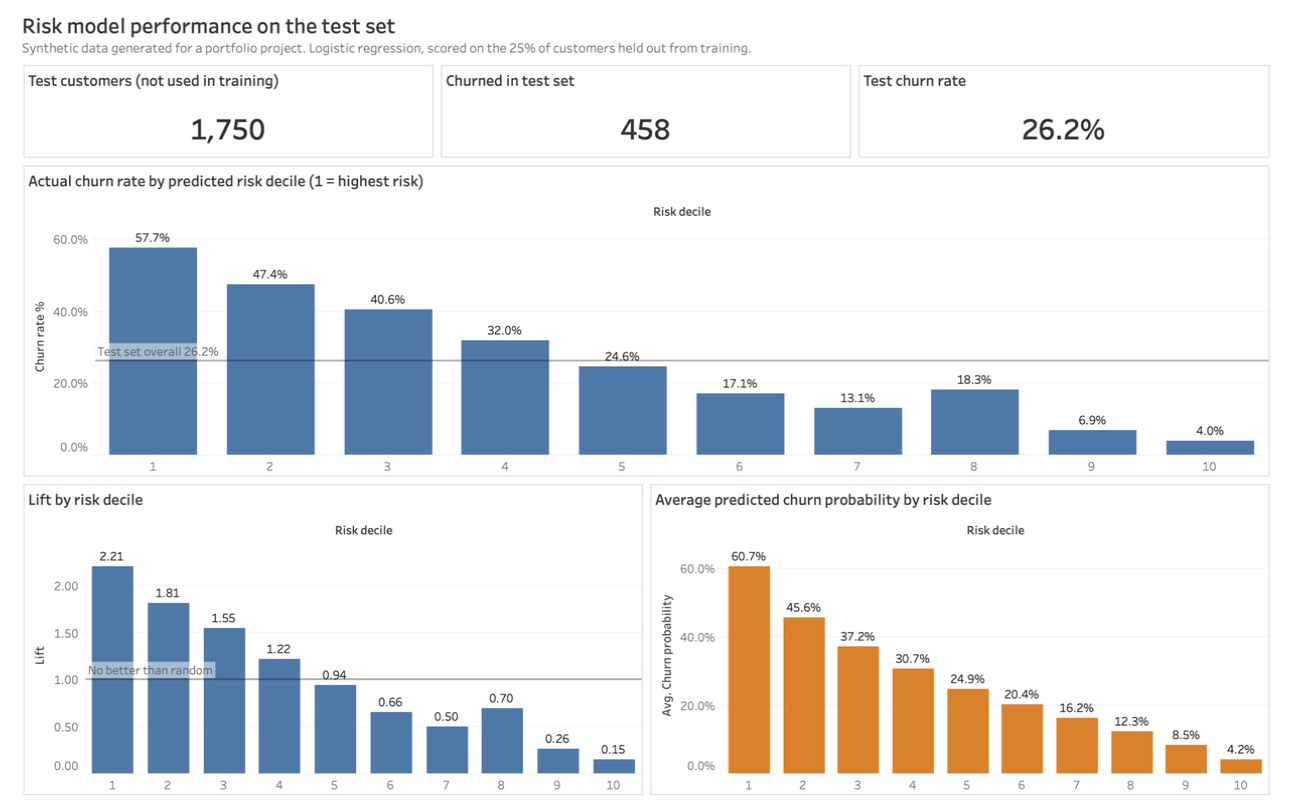

This screenshot's page, from the dashboard's own definition file:
{"tool":"tableau","page":{"name":"Risk model","canvas":[1300,820],"ordinal":1},"visuals":[{"type":"title","box":[0,0,1300,56]},{"type":"worksheet","title":"Test customers","mark":"Text","box":[0,56,433,104]},{"type":"worksheet","title":"Test churners","mark":"Text","box":[433,56,433,104]},{"type":"worksheet","title":"Test churn rate","mark":"Text","box":[866,56,434,104]},{"type":"worksheet","title":"Churn by risk decile","mark":"Bar","rows":["c_rate"],"cols":["risk_decile"],"box":[0,160,1300,330]},{"type":"worksheet","title":"Lift by risk decile","mark":"Bar","rows":["c_lift"],"cols":["risk_decile"],"box":[0,490,650,330]},{"type":"worksheet","title":"Predicted probability by decile","mark":"Bar","rows":["churn_probability"],"cols":["risk_decile"],"box":[650,490,650,330]}]}

Visuals, with their boxes in screenshot pixels (x1, y1, x2, y2), scaled from the page's 1300x820 canvas onto the 1292x811 screenshot:
title: box=[0, 0, 1291, 55]
"Test customers" worksheet (Text marks): box=[0, 55, 430, 158]
"Test churners" worksheet (Text marks): box=[430, 55, 861, 158]
"Test churn rate" worksheet (Text marks): box=[861, 55, 1291, 158]
"Churn by risk decile" worksheet (Bar marks): box=[0, 158, 1291, 485]
"Lift by risk decile" worksheet (Bar marks): box=[0, 485, 646, 810]
"Predicted probability by decile" worksheet (Bar marks): box=[646, 485, 1291, 810]
